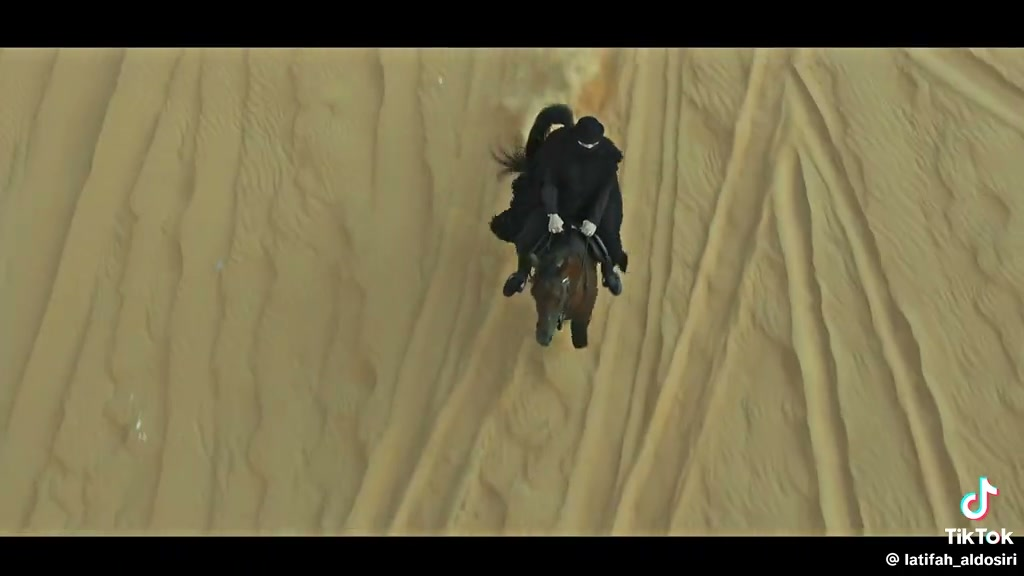animal: (529, 225, 598, 348)
vehicle_track: (618, 59, 800, 537), (778, 89, 965, 542), (0, 47, 171, 539), (551, 55, 679, 538), (358, 286, 539, 541), (156, 52, 251, 530)
